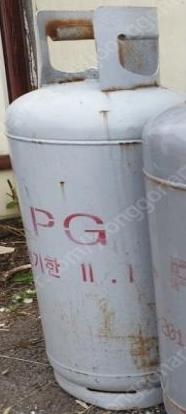cylinder: (0, 1, 186, 414)
